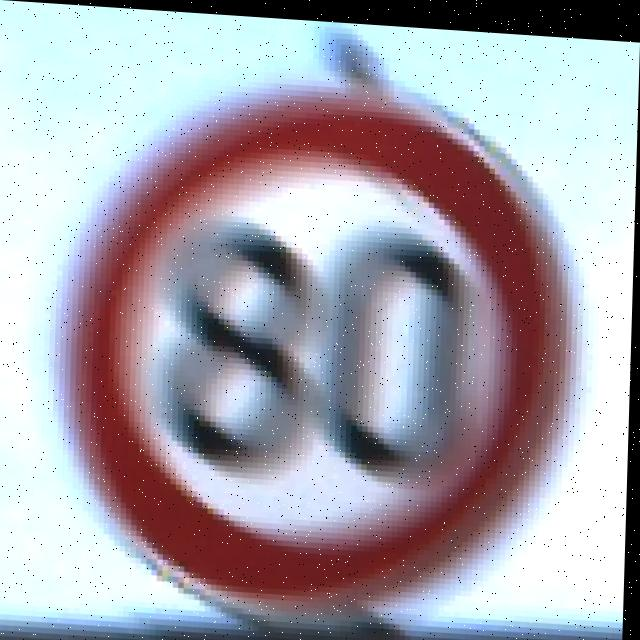speed_limit_80: (69, 65, 563, 626)
